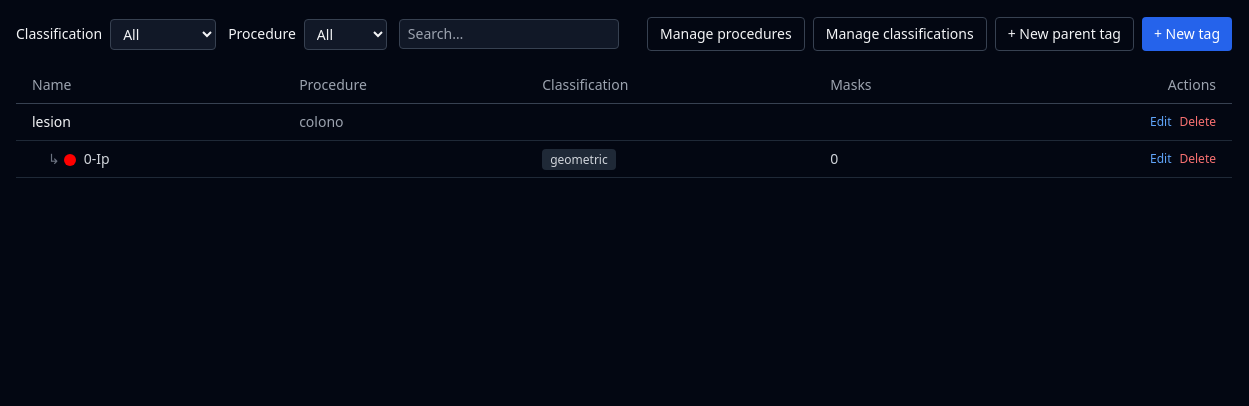
Test case: TagsPage › opens the category form when '+ New parent tag' is clicked
expect the text "0-Ip" is shown: met, box x1=84 y1=149 x2=110 y2=168
Click the button "+ New parent tag": click(1064, 34) x1=995 y1=17 x2=1134 y2=51
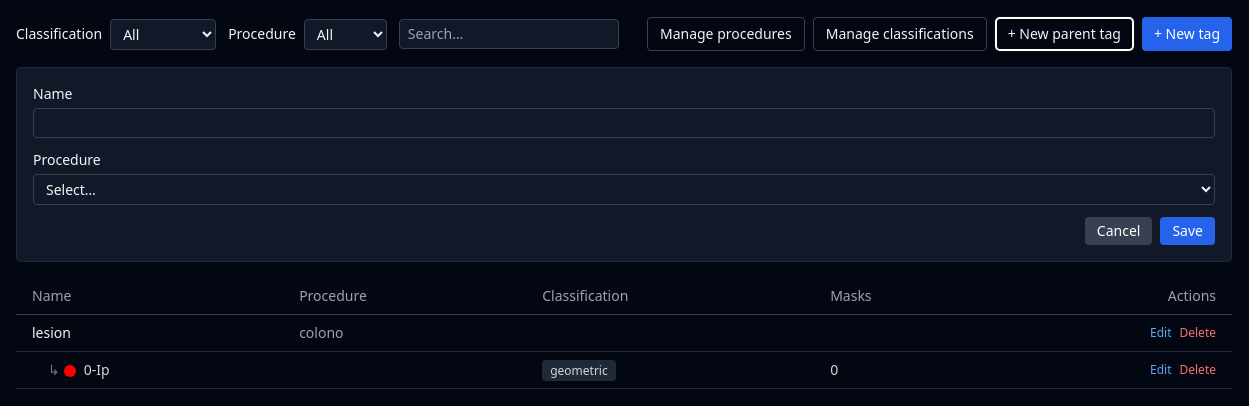
expect the field labelled "Name" is shown: met, box x1=33 y1=108 x2=1215 y2=138
